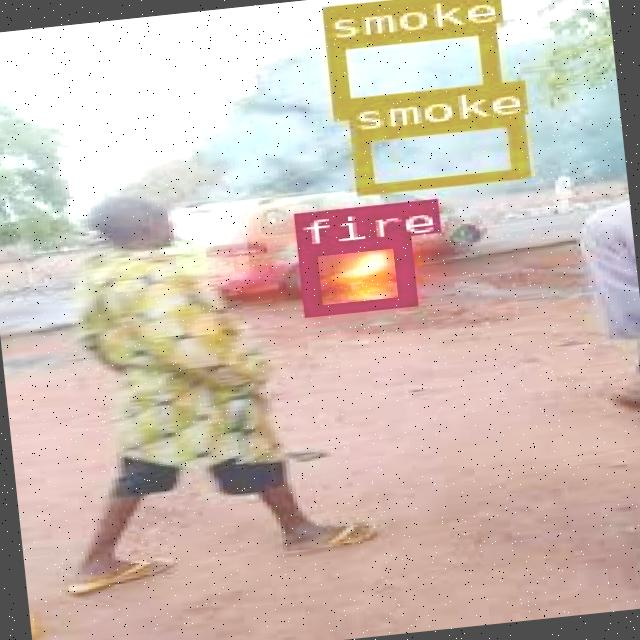fire: (294, 235, 411, 315)
smoke: (322, 22, 498, 119), (348, 114, 526, 194)
